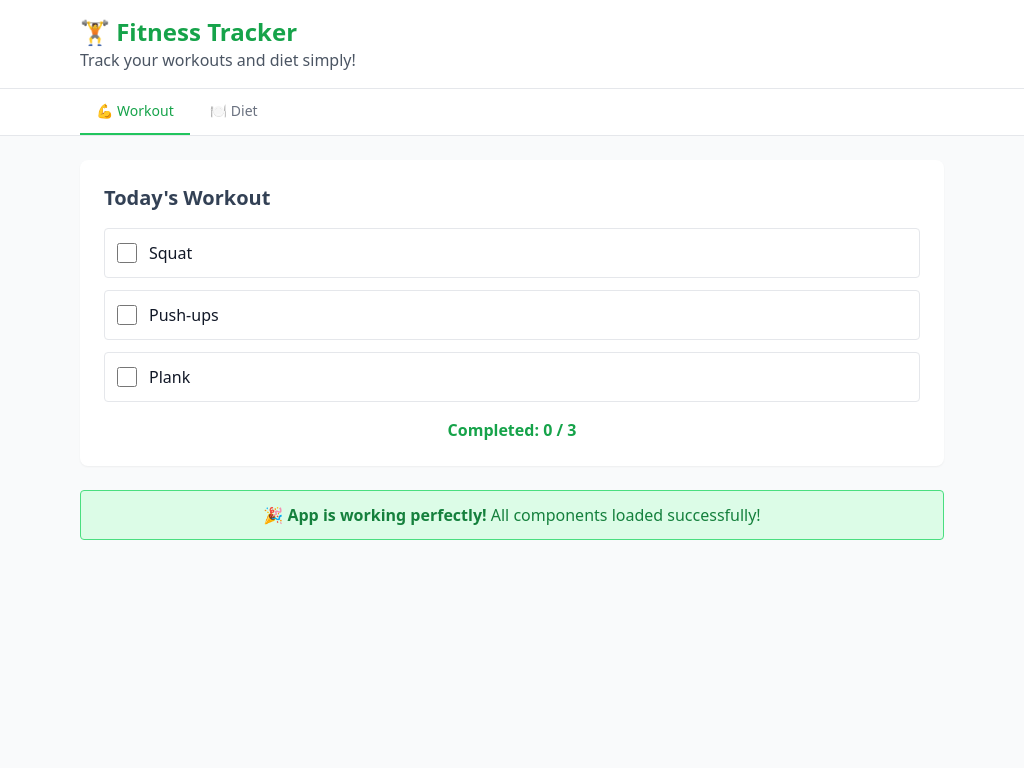
Test: SimpleApp › switches to diet tab and toggles meal
Click the button "🍽️ Diet".
click(234, 112)  # box [194,89,274,135]
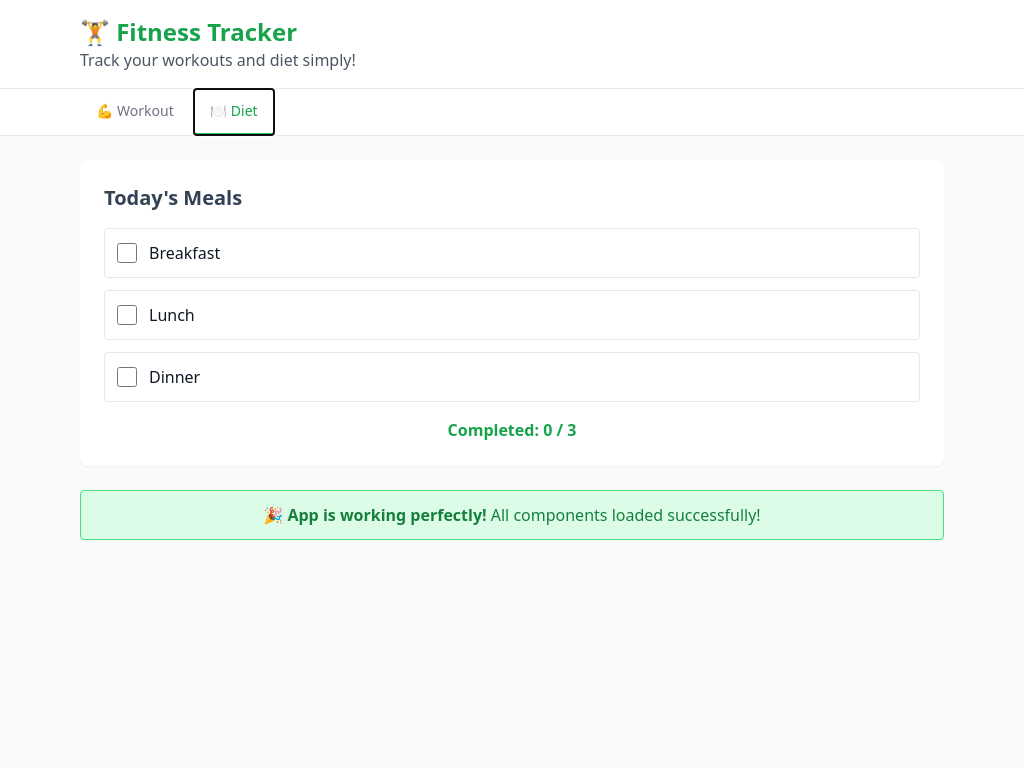
Now the heading "Today's Meals" is shown, box [104,184,242,211]
Click the checkbox named "Mark Breakfast as completed".
click(127, 253)  # box [117,243,137,263]
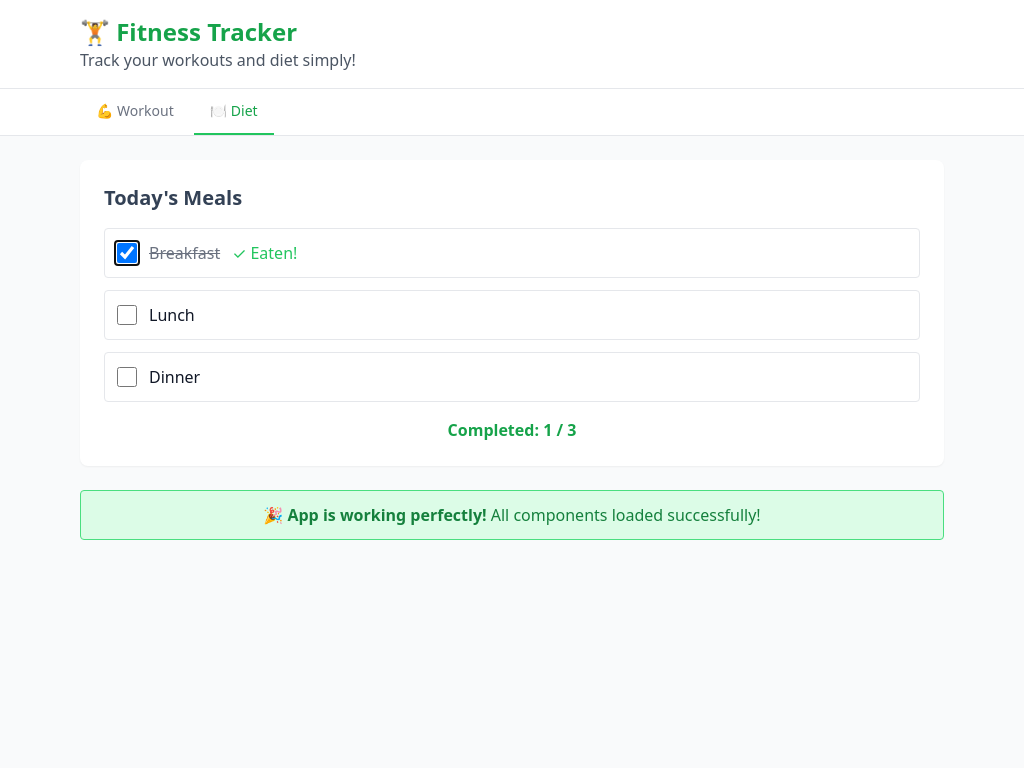
Now the checkbox named "Mark Breakfast as completed" is checked, box [117,243,137,263]
Now the text "✓ Eaten!" is shown, box [232,241,297,265]
